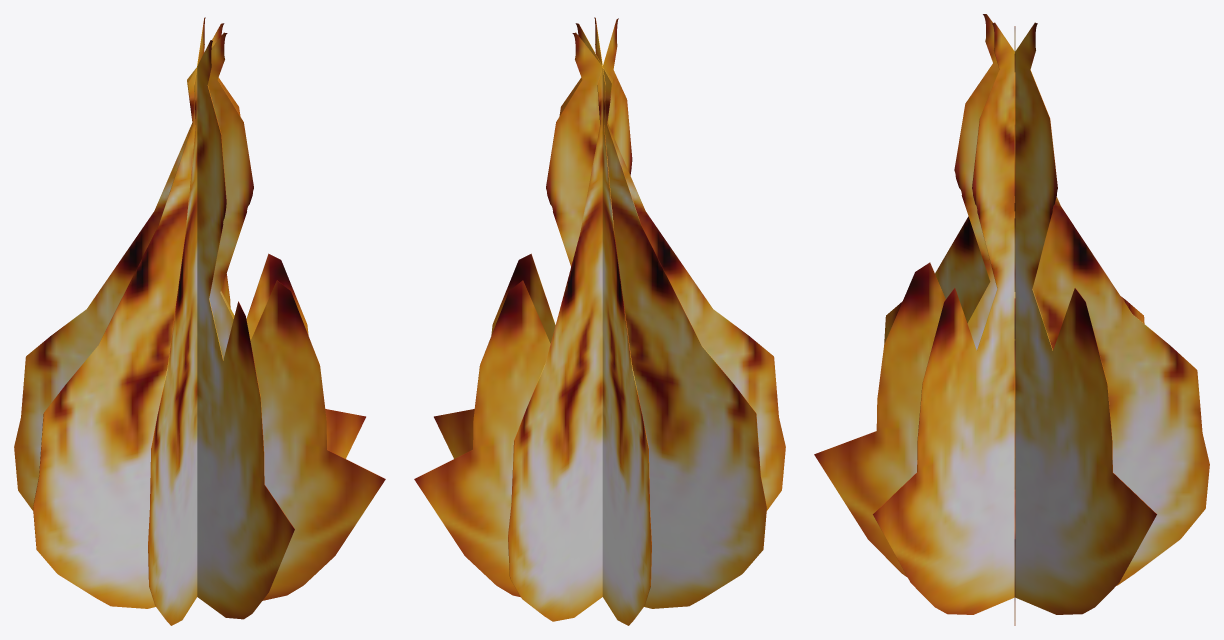
The model's file is fire_GEO_01.fbx.
3 views of the same model, side by side, from view 1: azimuth 30°, elevation 25°; view 2: azimuth 150°, elevation 25°; view 3: azimuth 270°, elevation 25° (orthographic). The views are drawn at different scales.
Parts seen in each view (by area): view 1: pCube6; view 2: pCube6; view 3: pCube6.
Part boxes in pixels (x1,y1,x2,y2): pCube6: [14, 17, 385, 625]; pCube6: [414, 17, 785, 625]; pCube6: [814, 14, 1209, 625].
Bounding box in the file's own units: 1.02 × 1.66 × 1.02.
1 material, 1 textured.
